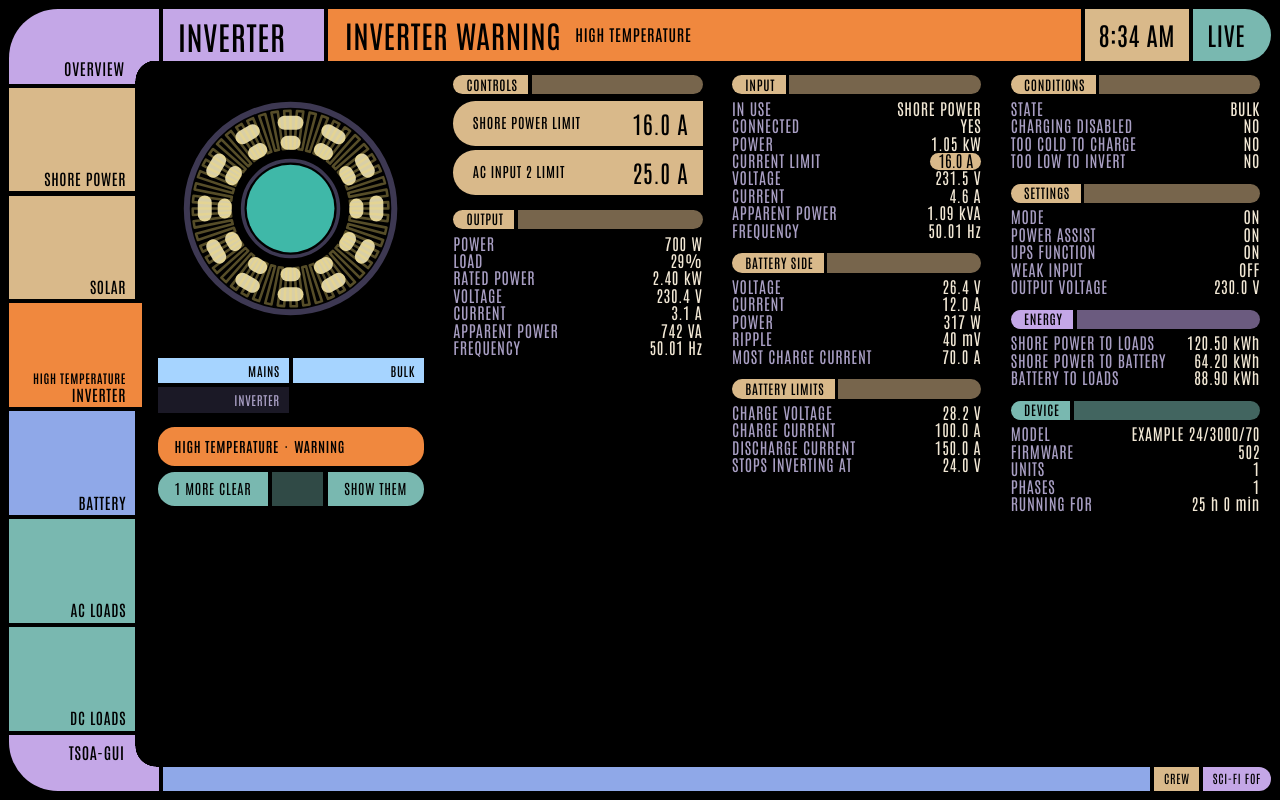
Scenario: the input limit screen in Sci-Fi FOF › gives each limit a key at the head of the inverter's page, with its value on it
Click the button "AC input 2 limit 25.0 A". click: click(578, 172)
box: [453,150,703,194]
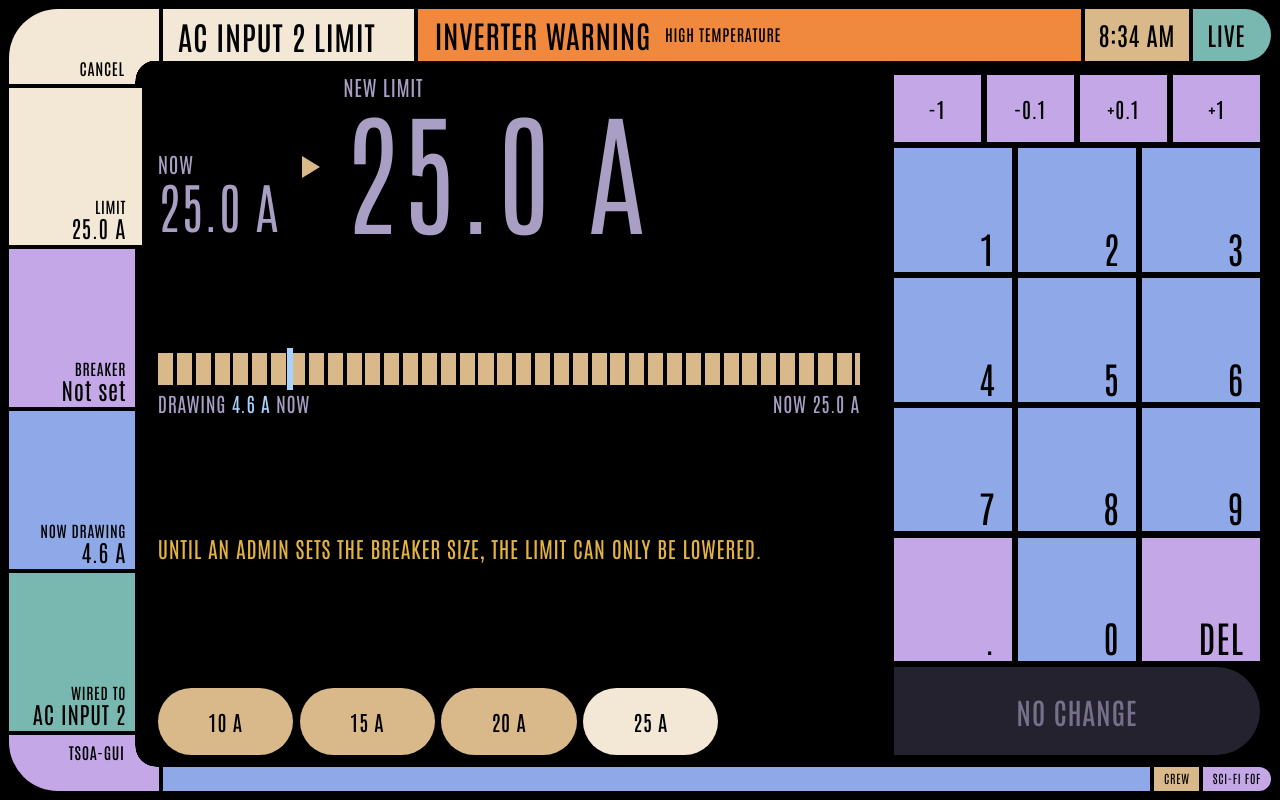
expect the navigation bar named "AC input 2 limit" is shown: met, box [9,88,135,731]
